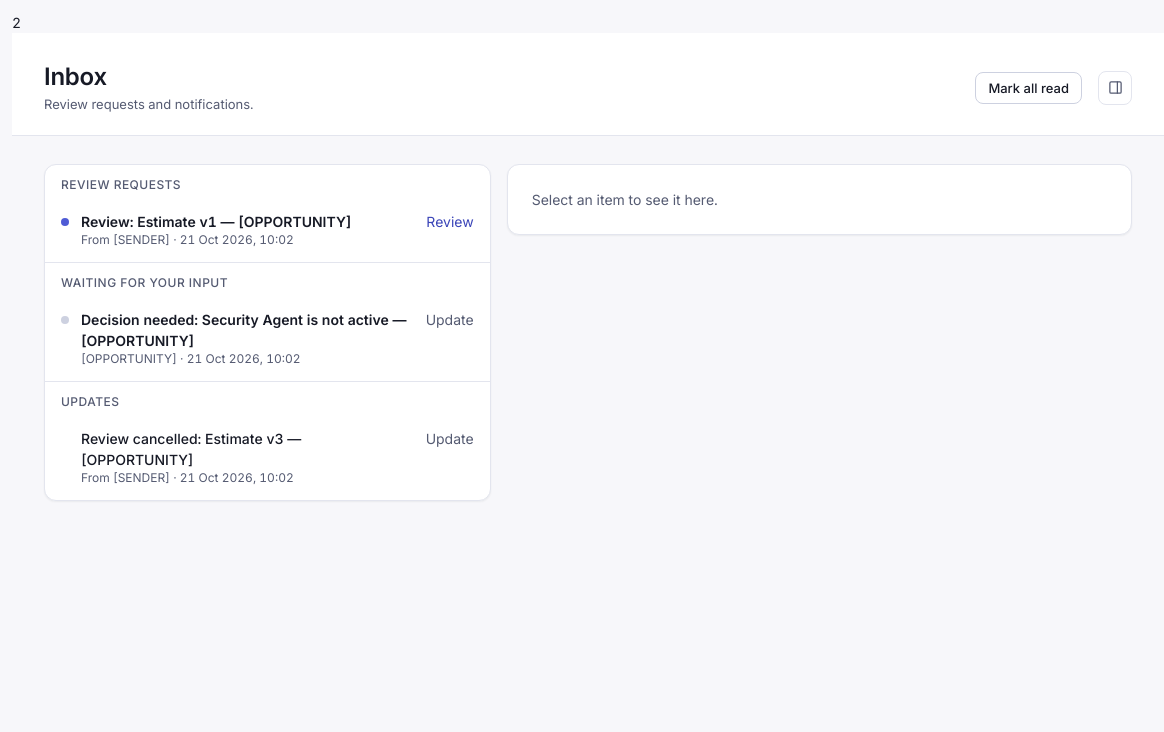
Test case: InboxView › selecting a row shows its detail, marks it read and drops the shared count
Expected: the element named "Inbox items" is shown, [44,164,491,500]
Expected: the text with test id "count" reads "2", [12,14,21,31]
Click the button "Review: Estimate v1" at [267, 229], box [45,196,490,262]
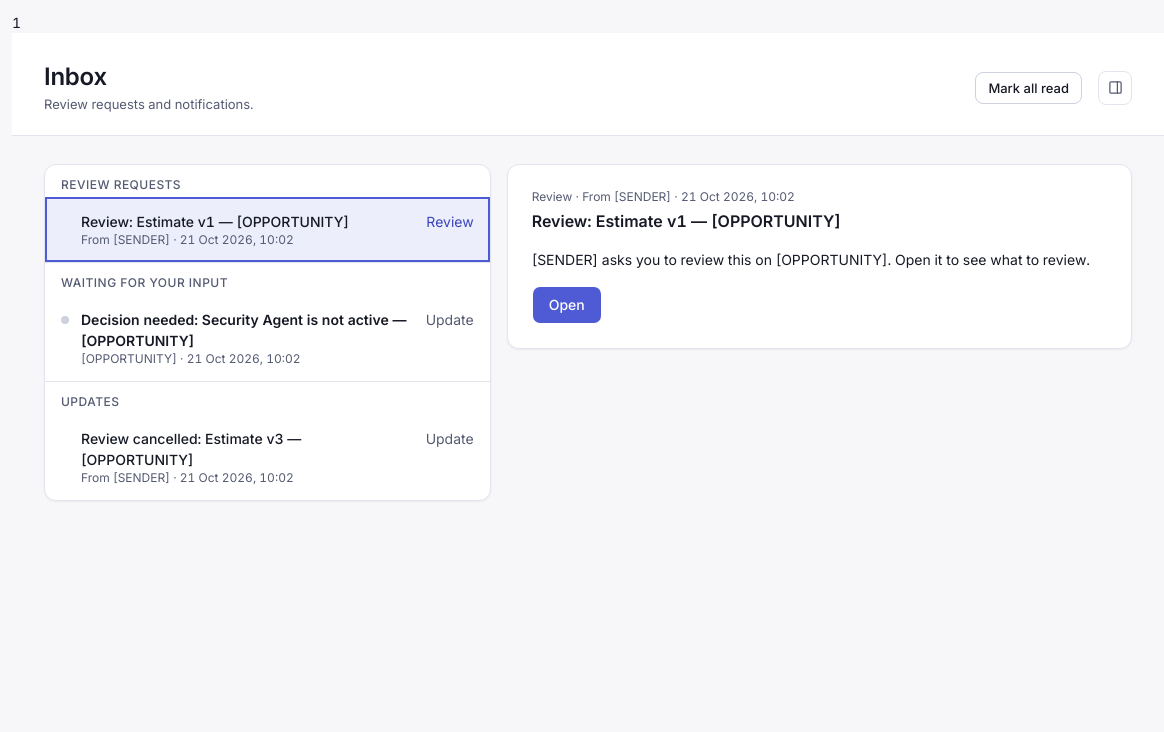
Result: the text "Review · From [SENDER] · 21 Oct 2026, 10:02" is shown at [532,188,795,204]
Result: the heading "Review: Estimate v1 — [OPPORTUNITY]" is shown at [532,210,841,230]
Result: the text with test id "count" reads "1" at [12,14,21,31]
